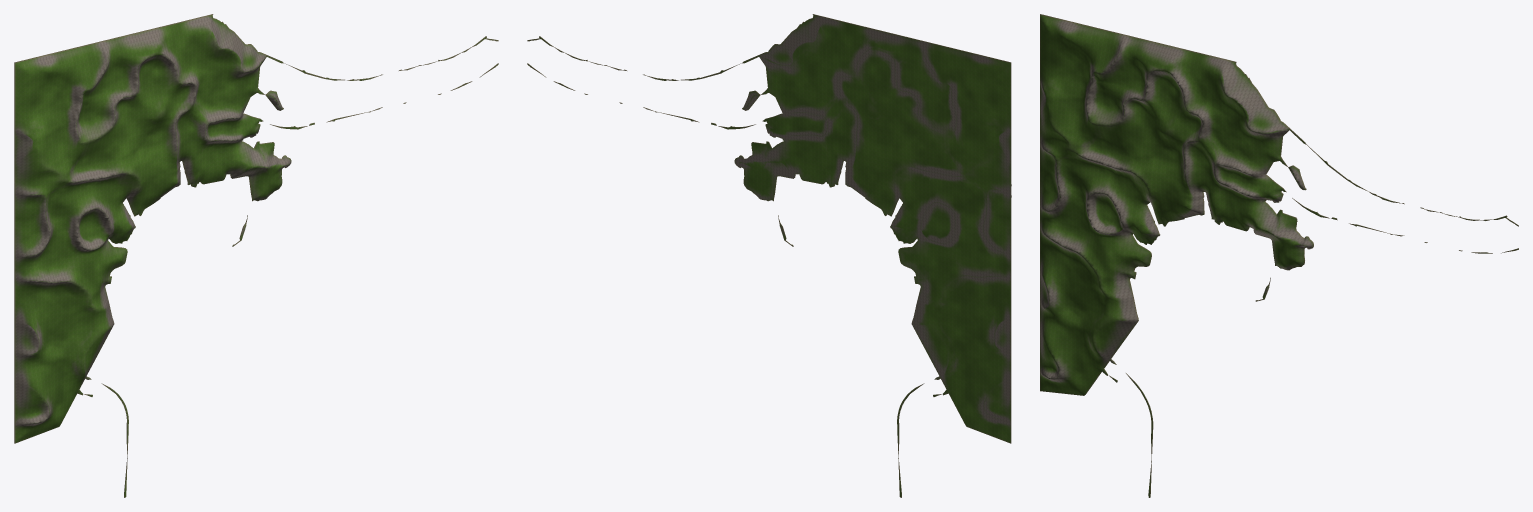
Rendered from green_island_001.obj.
The picture shows the model from 3 angles, left to right: view 1: azimuth 30°, elevation 25°; view 2: azimuth 150°, elevation 25°; view 3: azimuth 330°, elevation 25°; orthographic projection.
Visible parts, largest first — view 1: terrain_surface, shoreline_skirt; view 2: seabed_cap, shoreline_skirt; view 3: terrain_surface, shoreline_skirt.
Boxes of the visible parts, x1,y1,x2,y2 form: terrain_surface: (14, 14, 498, 497); shoreline_skirt: (14, 14, 498, 497); seabed_cap: (527, 14, 1011, 497); shoreline_skirt: (527, 14, 1010, 497); terrain_surface: (1040, 14, 1518, 497); shoreline_skirt: (1040, 14, 1518, 497).
Size of the model in its own units: 5002 by 4566 by 166.
1 material, 1 textured.
